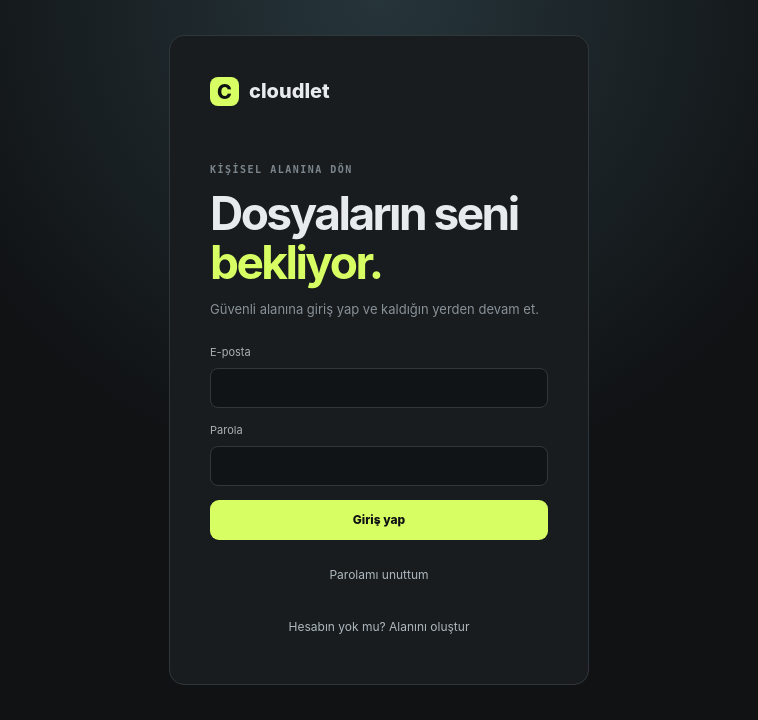
Test case: critical Cloudlet frontend behavior › shows the canonical nested API error message returned during registration
(page scrolled)
Click the button "Hesabın yok mu? Alanını oluştur" at (379, 627), box [210,610,548,644]
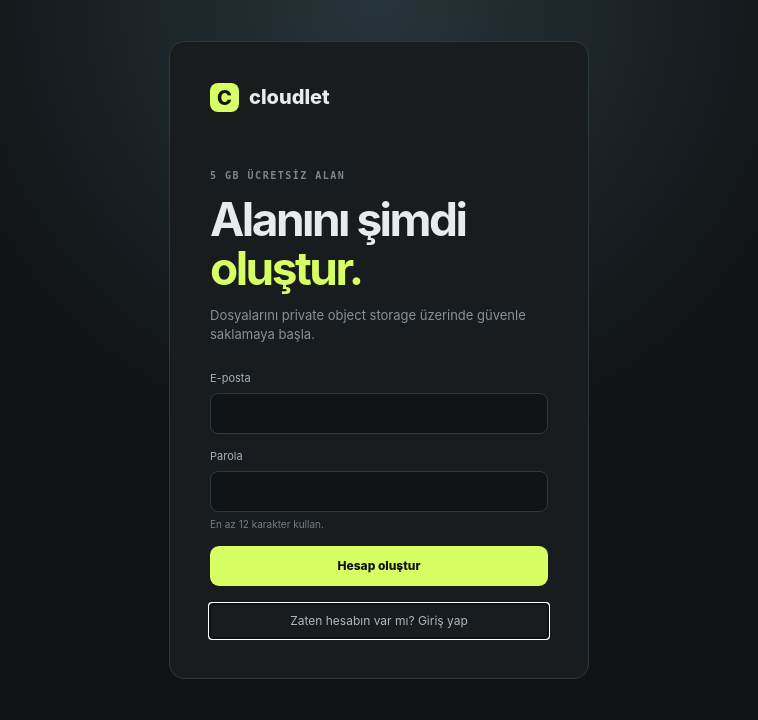
Type "kayit@example.com" into the field labelled "E-posta" at (379, 414), box [210,393,548,434]
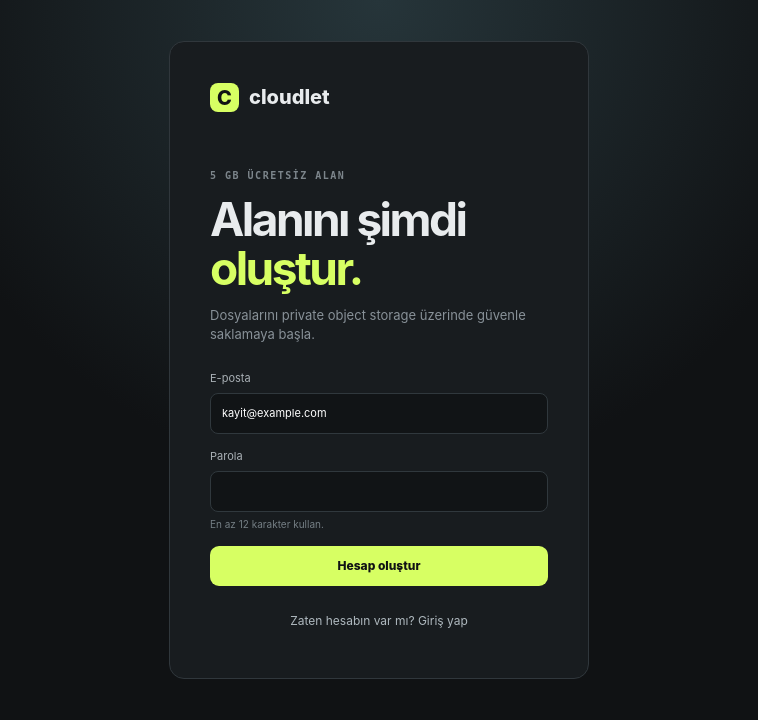
Type "Yeterince-uzun-123!" into the password field labelled "Parola" at (379, 492), box [210,471,548,512]
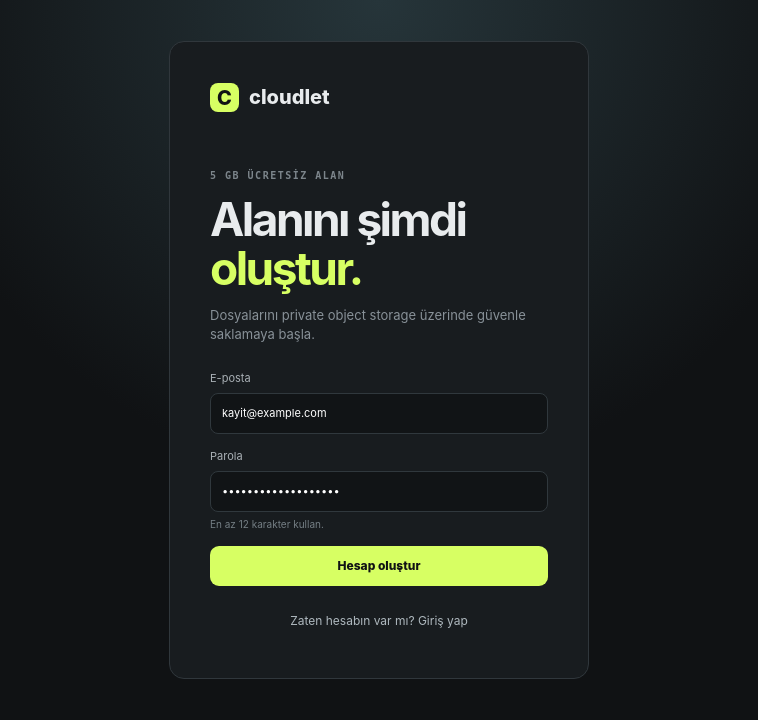
Click the button "Hesap oluştur" at (379, 566), box [210,546,548,586]
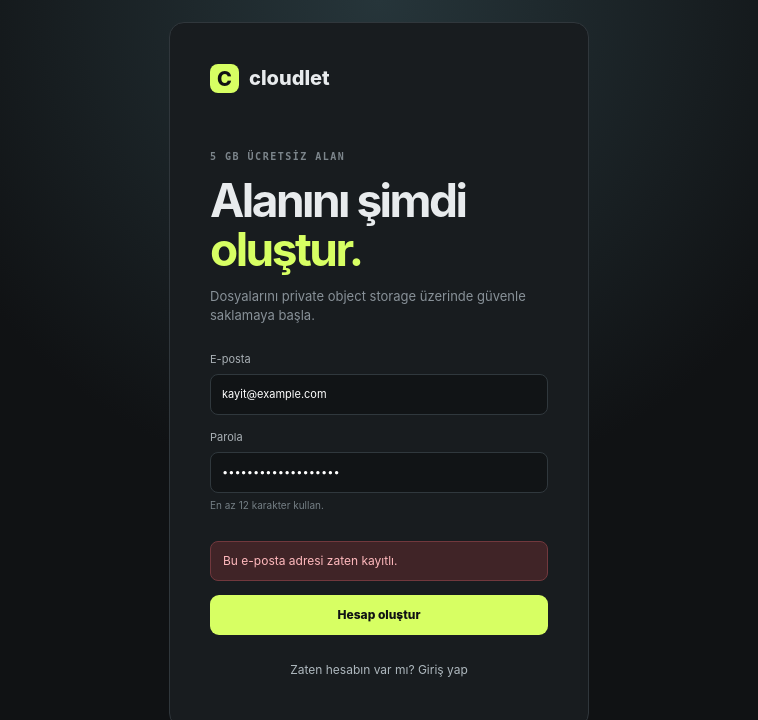
Result: the text "Bu e-posta adresi zaten kayıtlı." is shown at [210,540,548,580]
